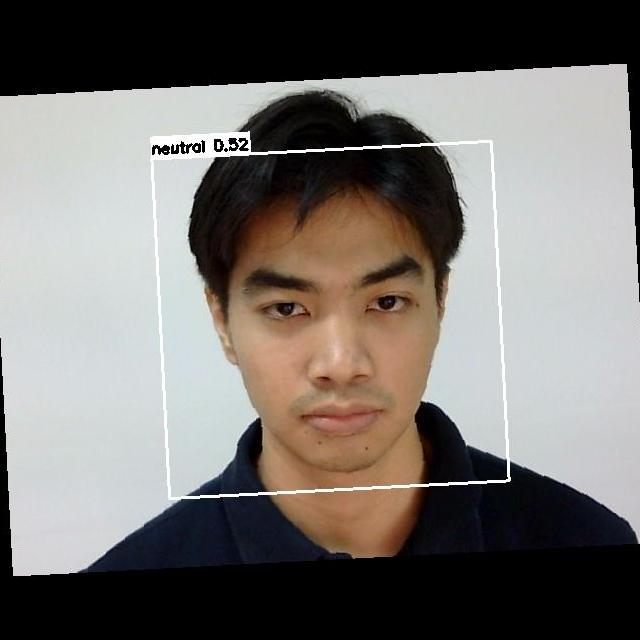Natural: (232, 252, 445, 443)
